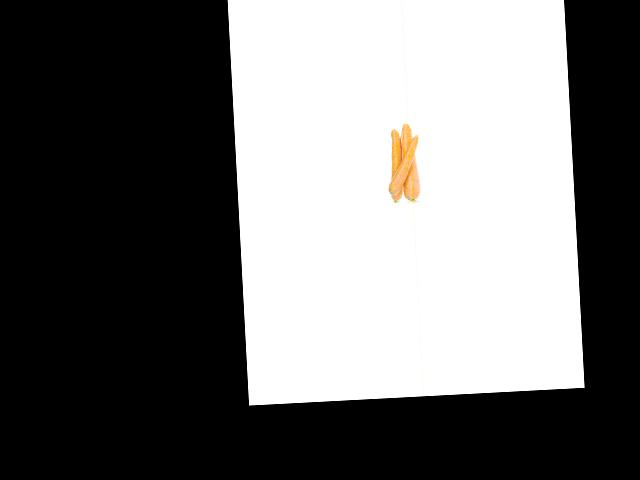carrot: (401, 120, 420, 203)
